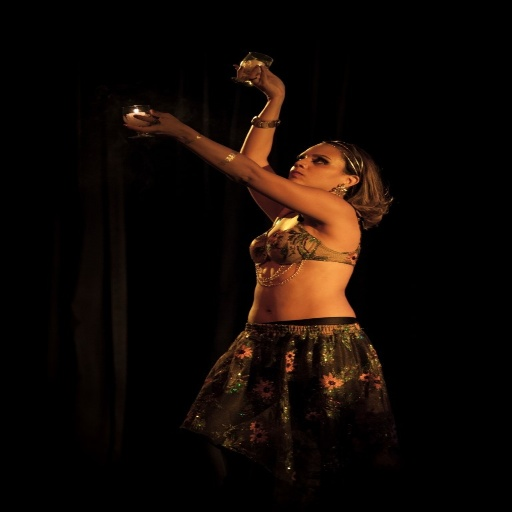hand: (112, 92, 206, 138), (227, 60, 285, 97)
